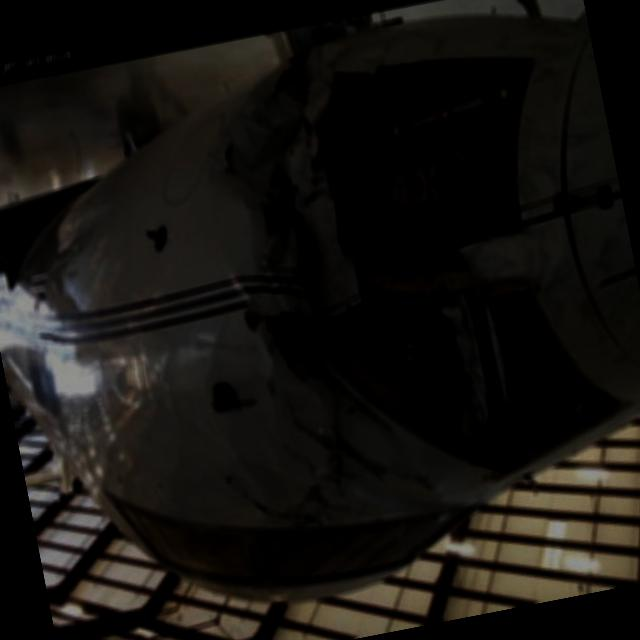crack: (222, 458, 316, 538), (211, 134, 268, 209)
